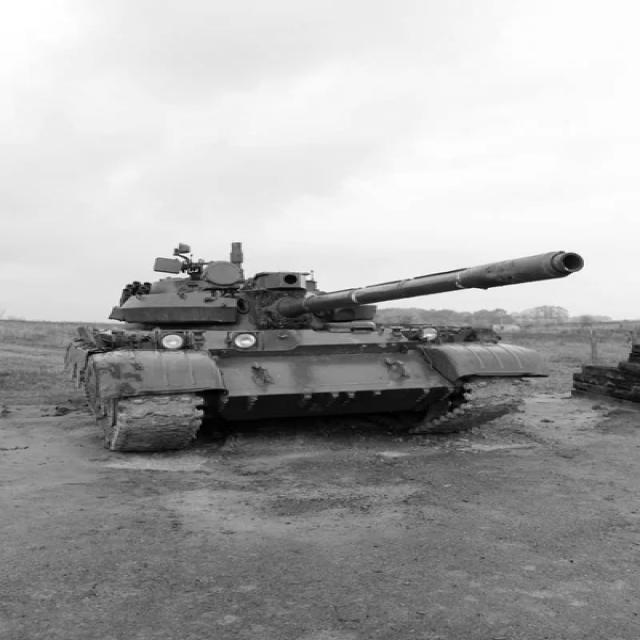Tank: (62, 233, 590, 453)
